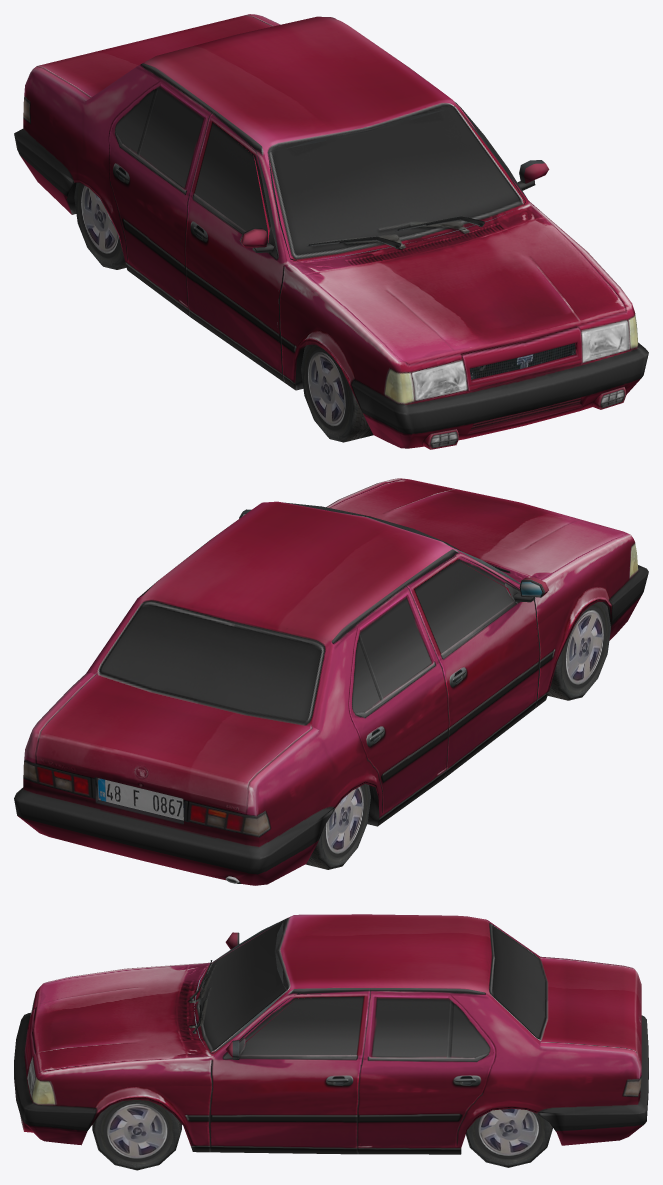
The model's file is dogan_slx.glb.
3 renders of one model, top to bottom at view 1: azimuth 30°, elevation 25°; view 2: azimuth 150°, elevation 25°; view 3: azimuth 270°, elevation 25°, orthographic. The views are drawn at different scales.
Parts seen in each view (by area): view 1: Object_2; view 2: Object_2; view 3: Object_2.
Part boxes in pixels (x1,y1,x2,y2): Object_2: (14,14,648,449); Object_2: (14,478,648,885); Object_2: (14,914,648,1170).
Bounding box in the file's own units: 2.29 × 1.57 × 5.17.
1 material, 1 textured.
